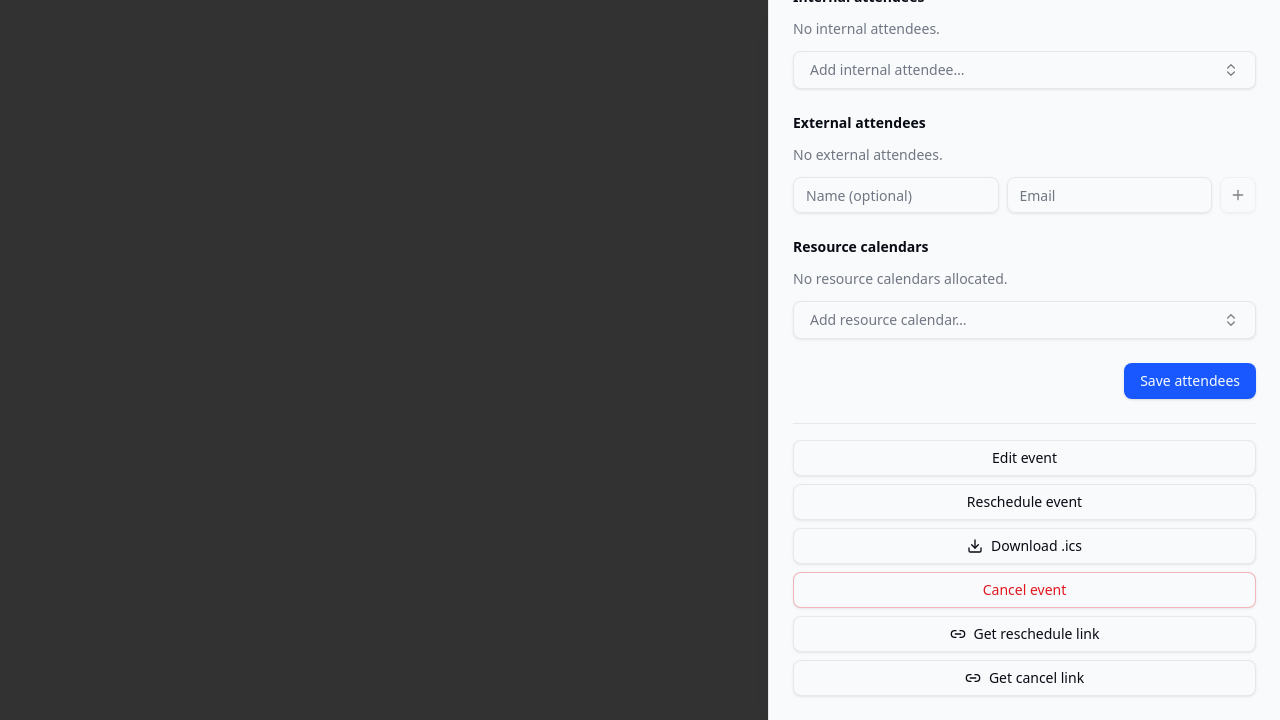
Test: EventAttendeesSheet — booking-link actions › a single-calendar event: "Get reschedule link" opens the dialog with a calendar-scoped duration control, defaulted to the event's own length
The width and height of the screenshot is (1280, 720).
(page scrolled)
Click the button "Get reschedule link" at coordinates (1024, 634), box x1=793 y1=616 x2=1256 y2=652
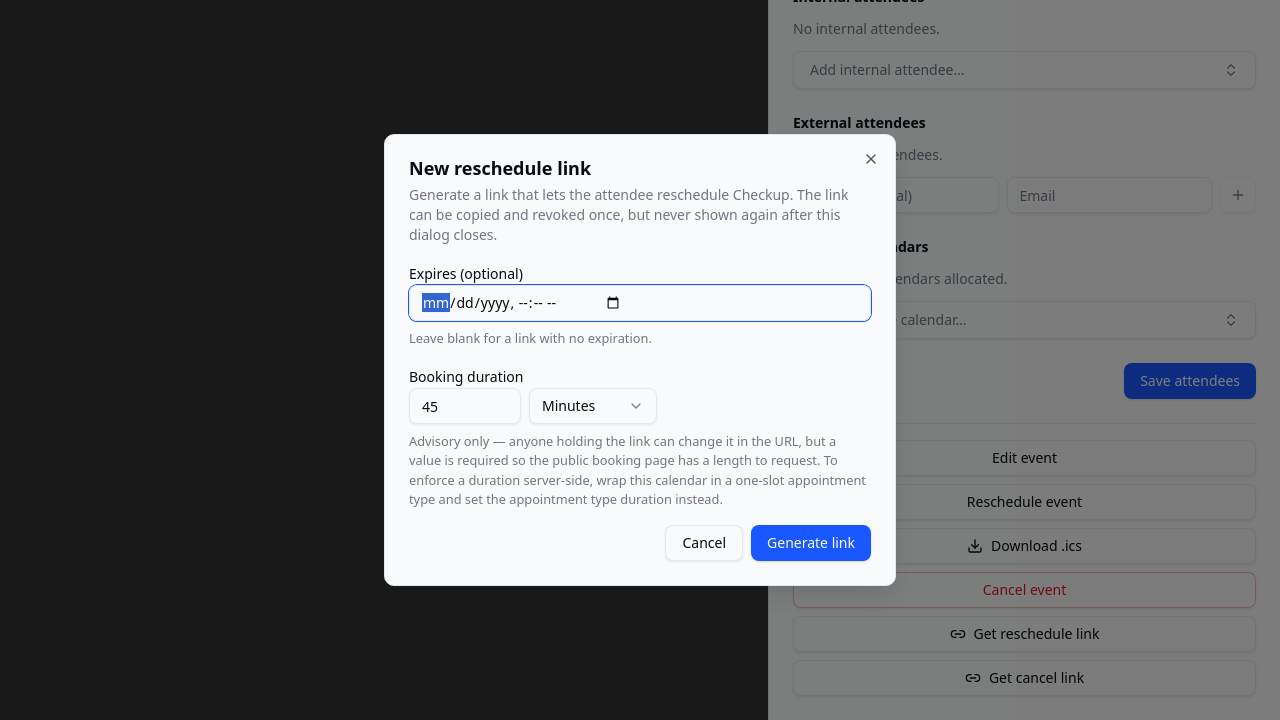
Check: the number field named "Booking duration value" holds "45", box x1=409 y1=388 x2=521 y2=424
